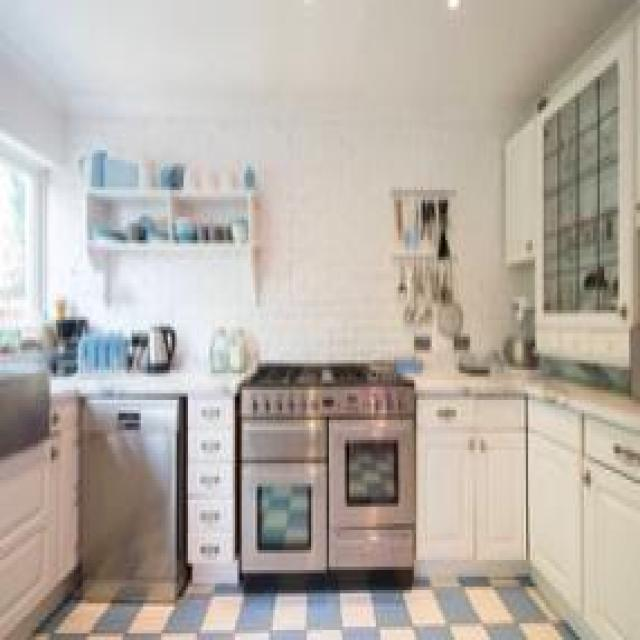dishwasher: (78, 394, 182, 594)
